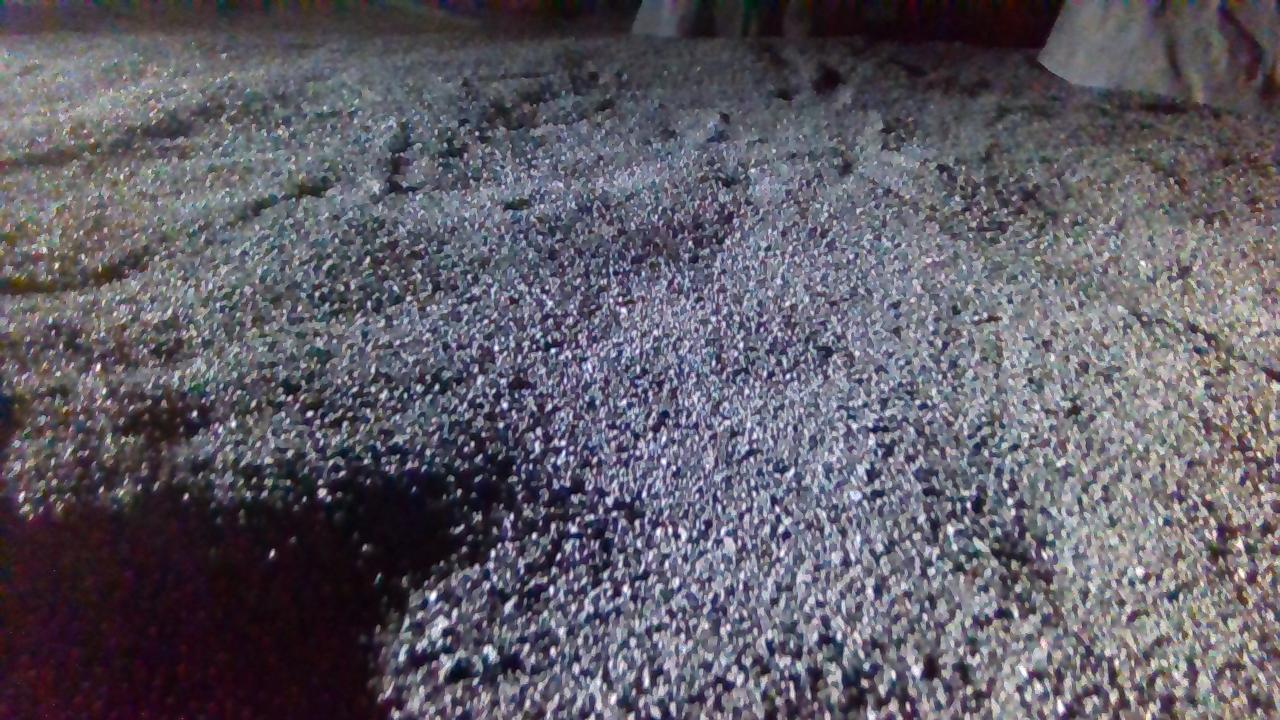rock: (1040, 0, 1280, 108), (632, 0, 813, 36)
